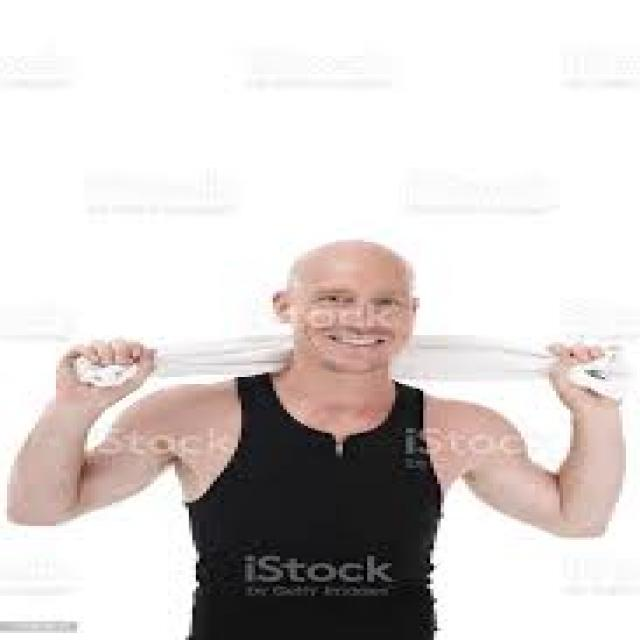bald: (267, 233, 425, 309)
